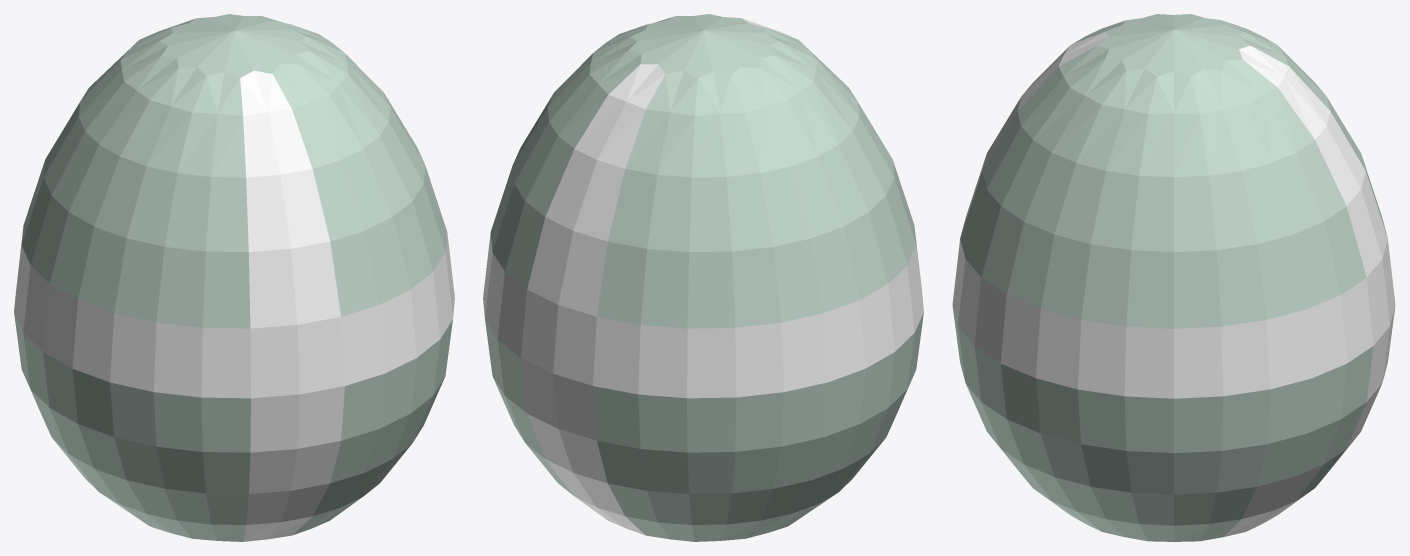
3 renders of one model, left to right at view 1: azimuth 30°, elevation 25°; view 2: azimuth 150°, elevation 25°; view 3: azimuth 270°, elevation 25°, orthographic.
Parts seen in each view (by area): view 1: pysanka01; view 2: pysanka01; view 3: pysanka01.
Part boxes in pixels (box(x1,y1,x2,y2)): pysanka01: box(14, 14, 454, 541); pysanka01: box(483, 14, 923, 541); pysanka01: box(952, 14, 1395, 541).
Size of the model in its own units: 13.2 by 16.11 by 13.19.
